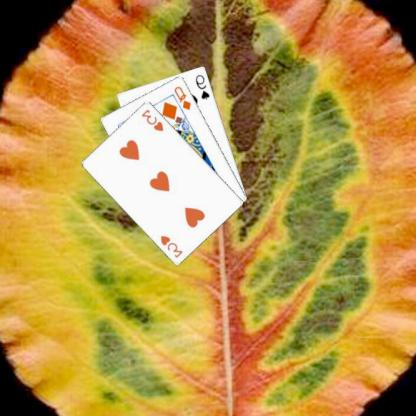3H: (140, 106, 166, 132), (160, 232, 186, 258)
9S: (195, 72, 213, 101)
QD: (173, 83, 194, 111)
